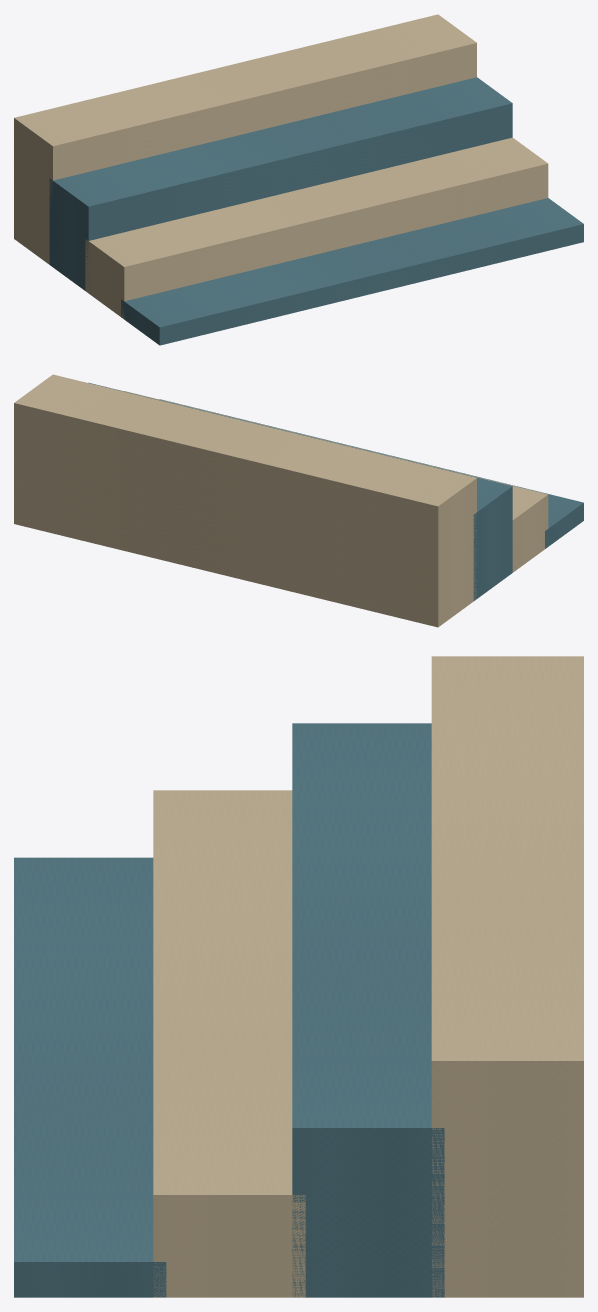
File: atlas100-s041-a10.lod2.glb
3 views of the same model, one above another, from view 1: azimuth 30°, elevation 25°; view 2: azimuth 150°, elevation 25°; view 3: azimuth 270°, elevation 25° (orthographic). The views are drawn at different scales.
Visible parts, largest first — view 1: atlas100-s041-a10:part-003, atlas100-s041-a10:part-002, atlas100-s041-a10:part-001, atlas100-s041-a10:part-000; view 2: atlas100-s041-a10:part-003, atlas100-s041-a10:part-002, atlas100-s041-a10:part-001, atlas100-s041-a10:part-000; view 3: atlas100-s041-a10:part-003, atlas100-s041-a10:part-002, atlas100-s041-a10:part-001, atlas100-s041-a10:part-000.
Boxes of the visible parts, x1=… form: atlas100-s041-a10:part-003: x1=14, y1=14, x2=476, y2=264; atlas100-s041-a10:part-002: x1=49, y1=77, x2=512, y2=290; atlas100-s041-a10:part-001: x1=85, y1=137, x2=548, y2=319; atlas100-s041-a10:part-000: x1=121, y1=198, x2=583, y2=345; atlas100-s041-a10:part-003: x1=14, y1=374, x2=476, y2=627; atlas100-s041-a10:part-002: x1=88, y1=382, x2=512, y2=600; atlas100-s041-a10:part-001: x1=124, y1=391, x2=548, y2=572; atlas100-s041-a10:part-000: x1=159, y1=399, x2=583, y2=548; atlas100-s041-a10:part-003: x1=431, y1=656, x2=583, y2=1297; atlas100-s041-a10:part-002: x1=292, y1=723, x2=444, y2=1297; atlas100-s041-a10:part-001: x1=153, y1=790, x2=305, y2=1297; atlas100-s041-a10:part-000: x1=14, y1=857, x2=166, y2=1297.
Bounding box in the file's own units: 2.2 × 0.6 × 1.31.
Materials: 2 (2 with a texture image).
